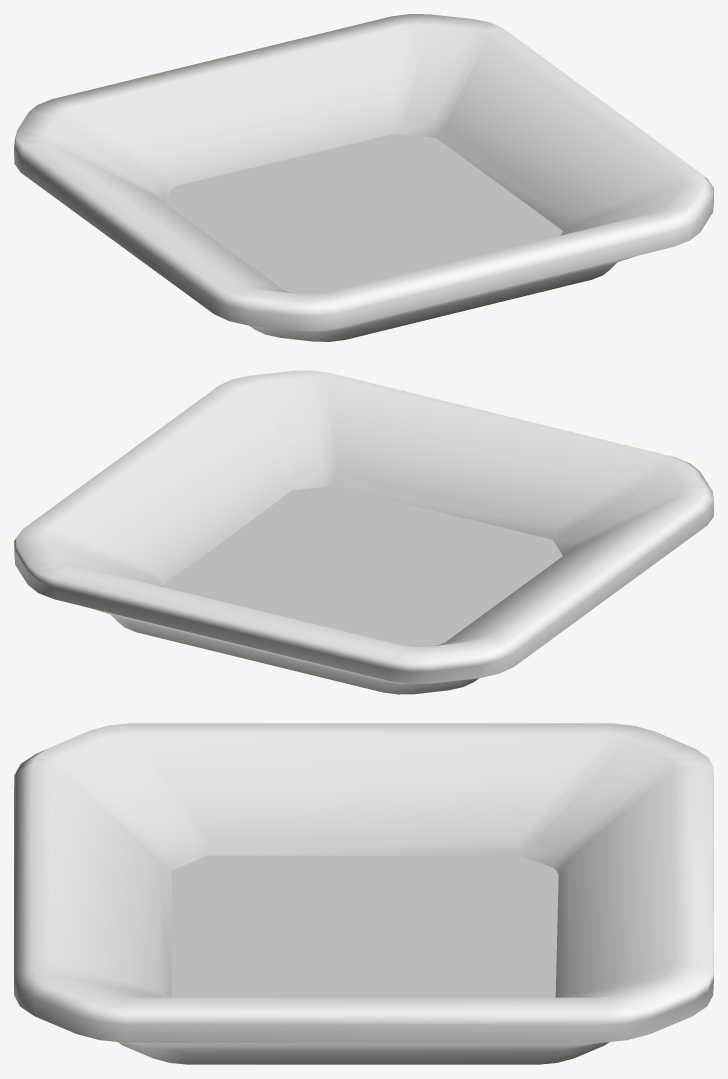
Rendered from plate_003.fbx.
3 renders of one model, top to bottom at view 1: azimuth 30°, elevation 25°; view 2: azimuth 150°, elevation 25°; view 3: azimuth 270°, elevation 25°, orthographic. The views are drawn at different scales.
Visible parts, largest first — view 1: plate_003; view 2: plate_003; view 3: plate_003.
Part boxes in pixels (box(x1,y1,x2,y2)): plate_003: box(14, 14, 713, 341); plate_003: box(14, 370, 713, 694); plate_003: box(14, 723, 713, 1064).
Size of the model in its own units: 13.15 by 13.16 by 1.88.
